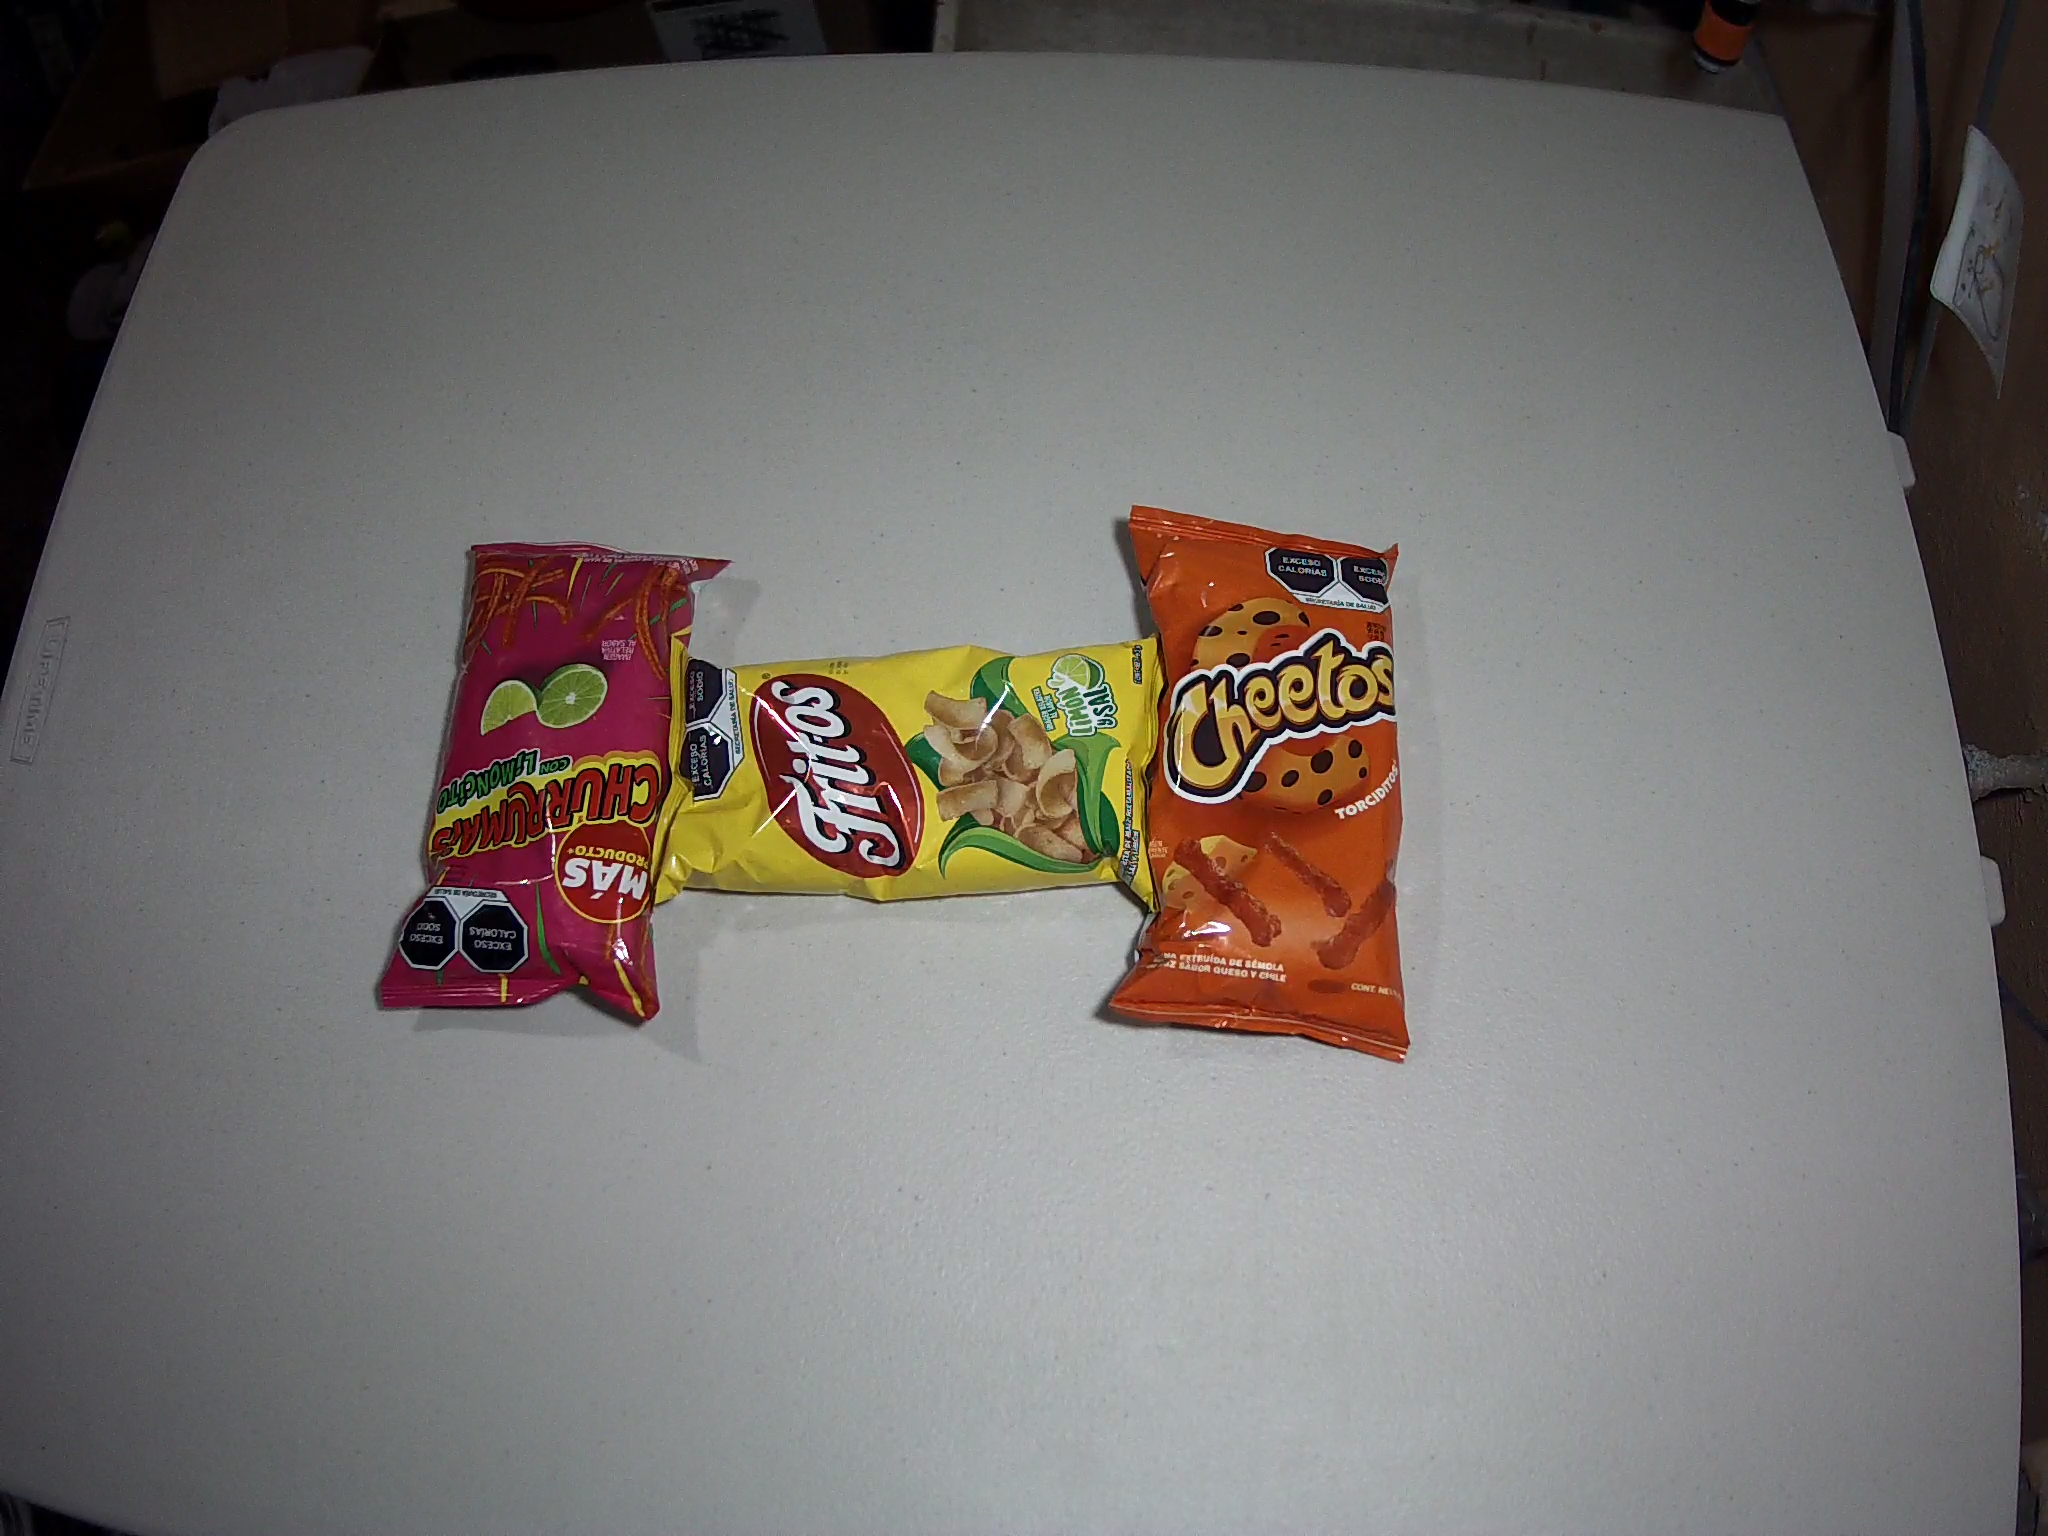CheetosTorciditos_55_F: (1108, 502, 1408, 1063)
Churrumais_70_F: (379, 541, 735, 1028)
FritosSalLimon_65_F: (651, 629, 1163, 913)
